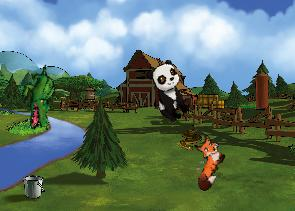crocodile: (14, 64, 65, 131)
fox: (178, 131, 232, 193)
panda: (143, 58, 195, 125)
